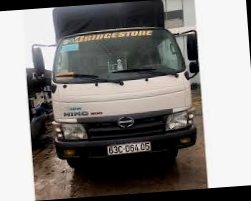Bien-so: (109, 141, 153, 152)
